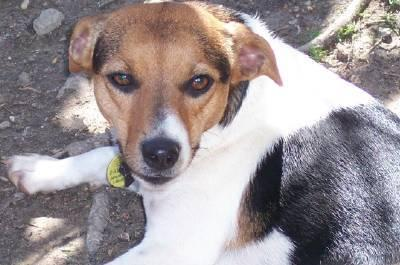dog: (7, 1, 399, 264)
